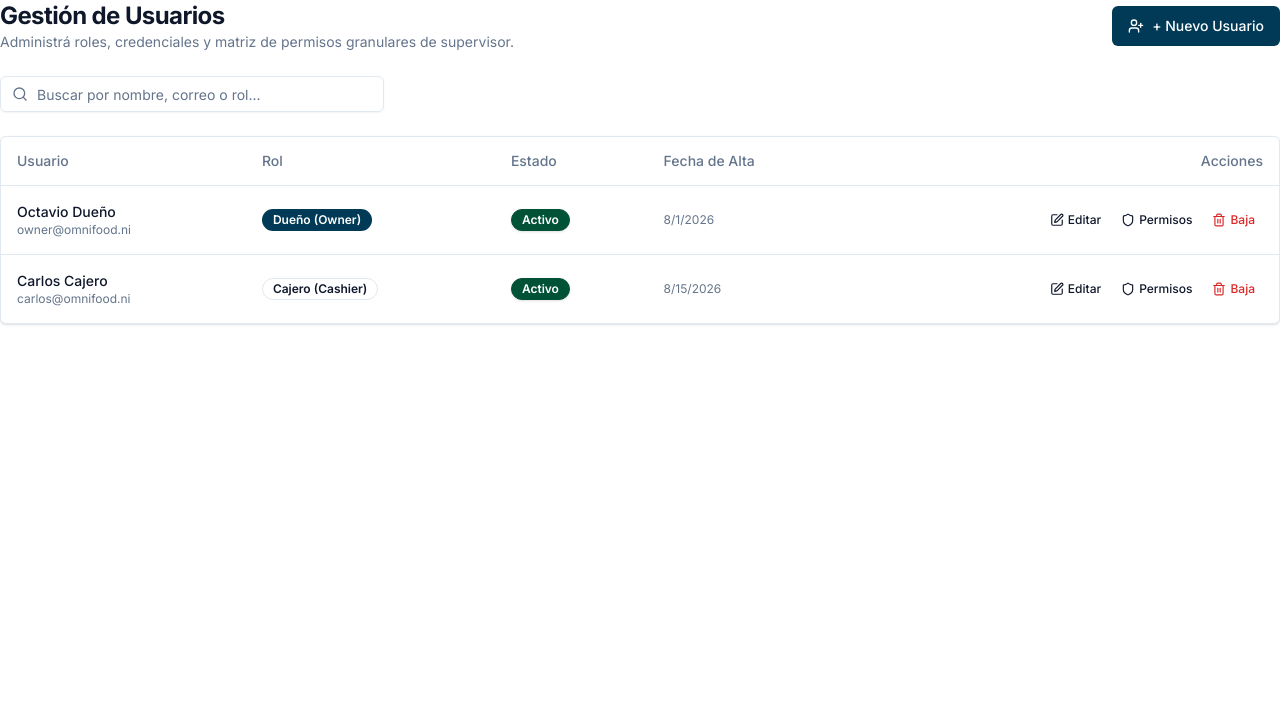
W8 — Users & Permissions Integration Suite (Real React Query + UI) › edits an existing user role and name via edit dialog
Expected: the text "Carlos Cajero" is shown, [17,272,108,288]
# Click "Editar" button for Carlos
Click the button "Editar" in the row of "Carlos Cajero" at (1075,288), box [1042,272,1109,304]
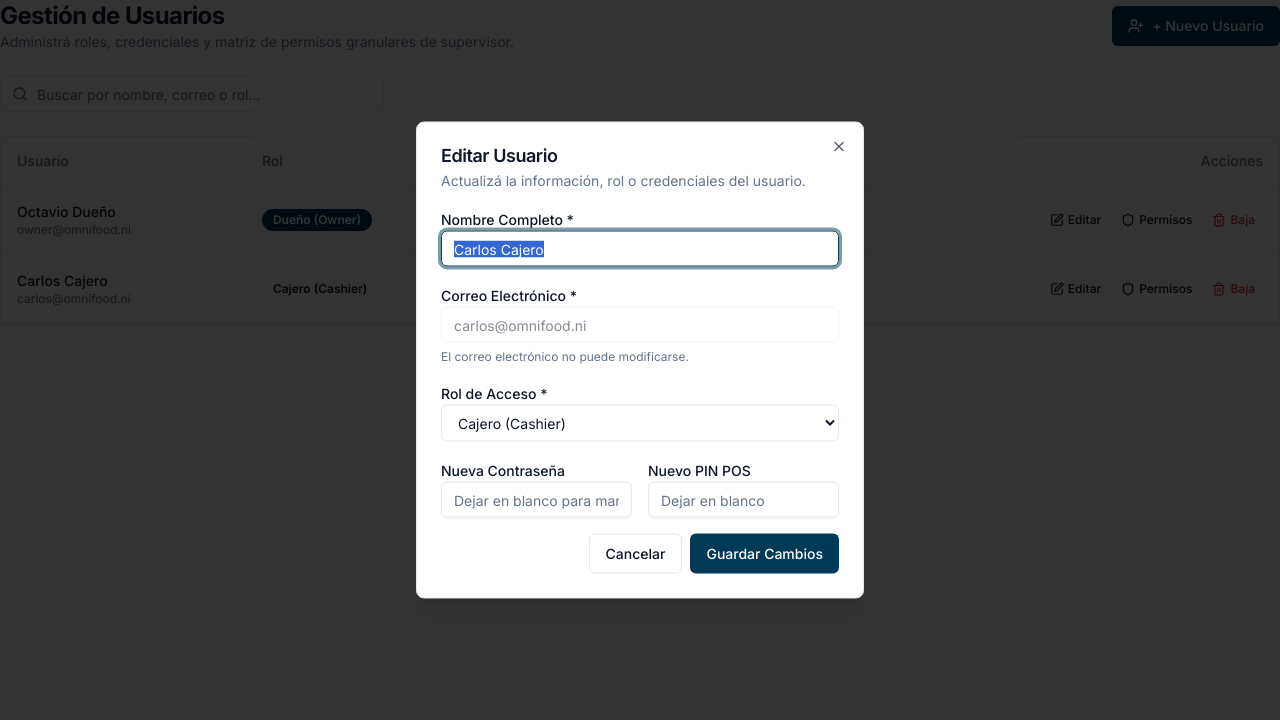
Expected: the heading "Editar Usuario" is shown, [441,144,557,166]
Replace the text in the field with placeholder "Ej: Carlos Mendoza" with "Carlos Promovido" at (640,248), box [441,230,839,266]
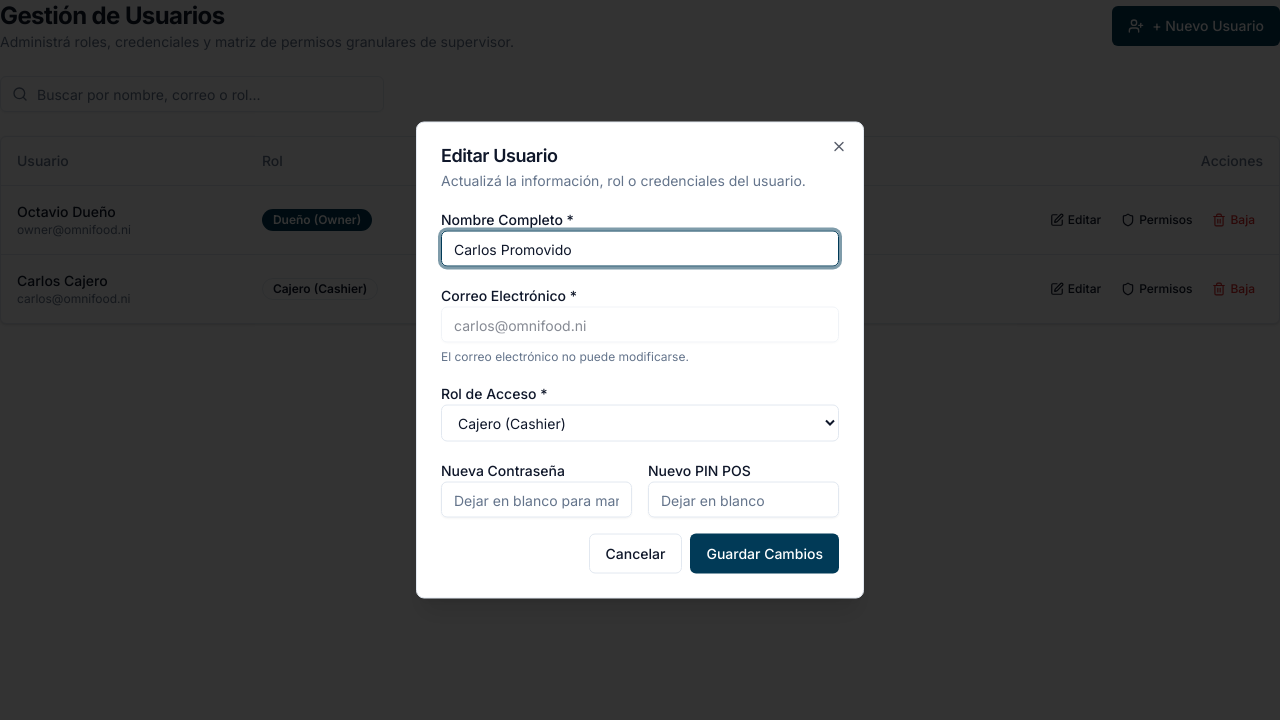
Select "Gerente (Manager)" in the dropdown at (640,423), box [441,404,839,442]
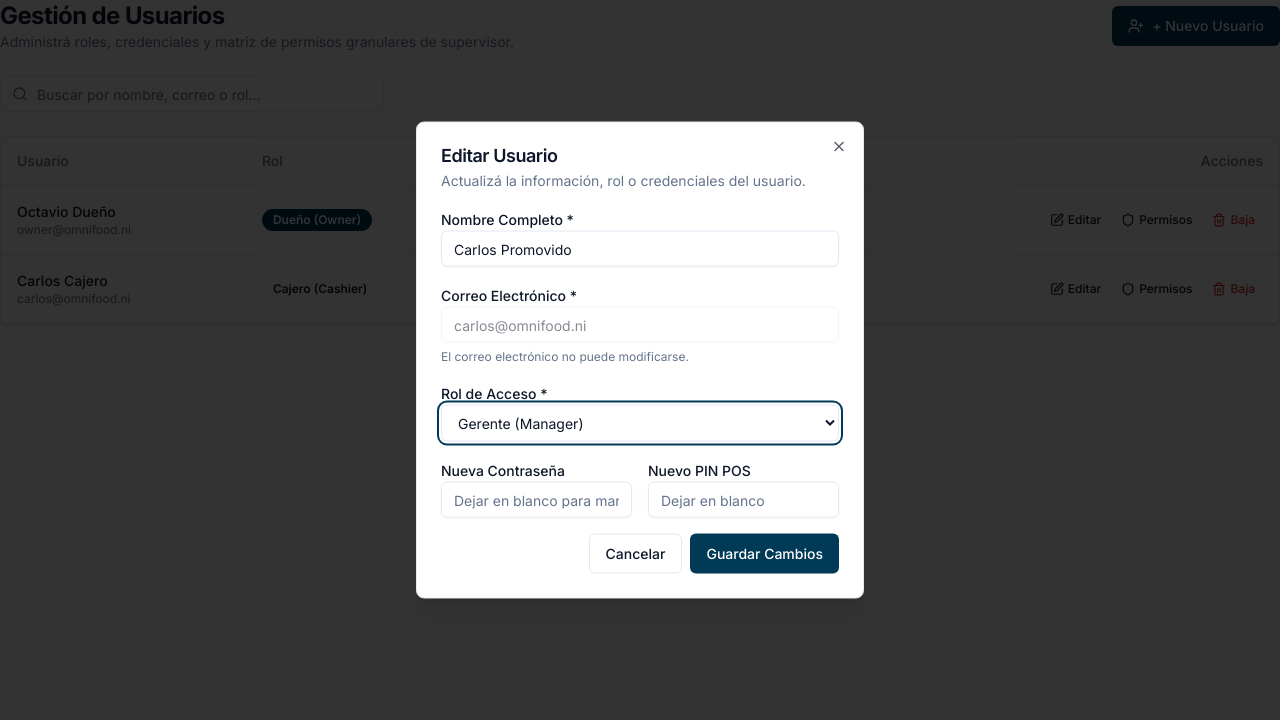
Click the button "Guardar Cambios" at (765,554), box [690,534,839,574]
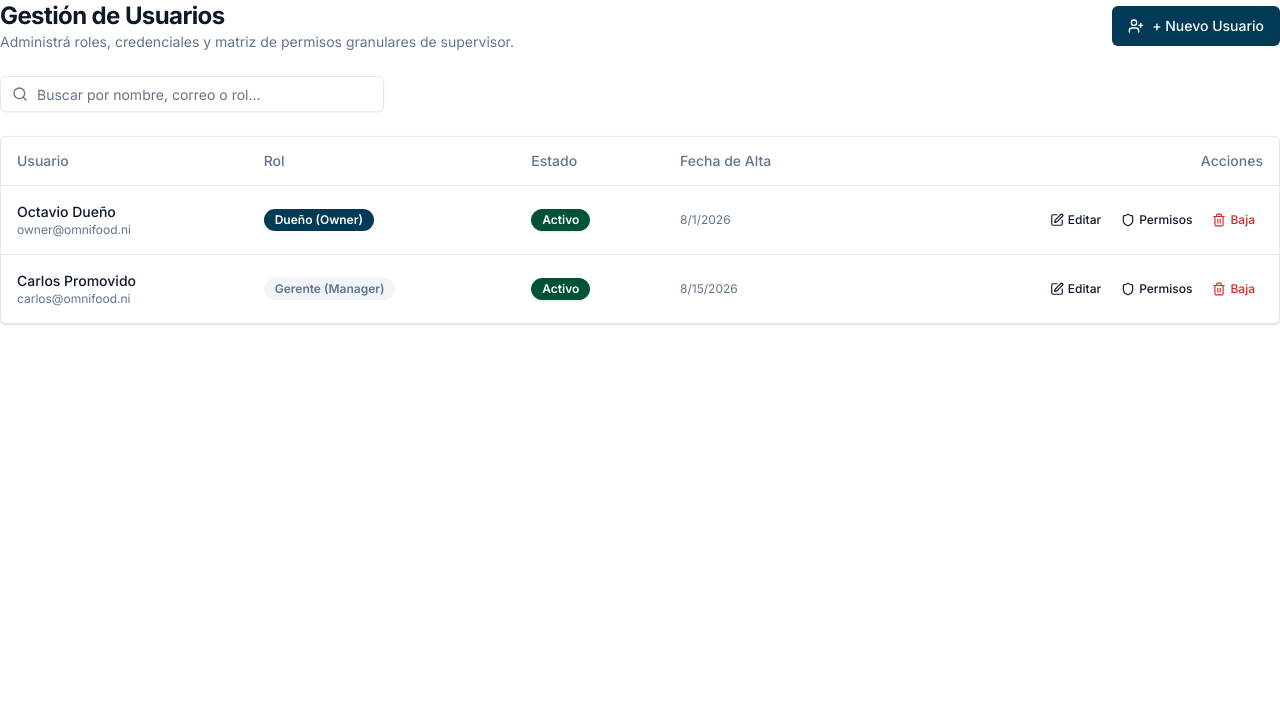
Expected: the text "Carlos Promovido" is shown, [17,272,136,288]
Expected: the text "Gerente (Manager)" is shown, [264,278,396,300]
